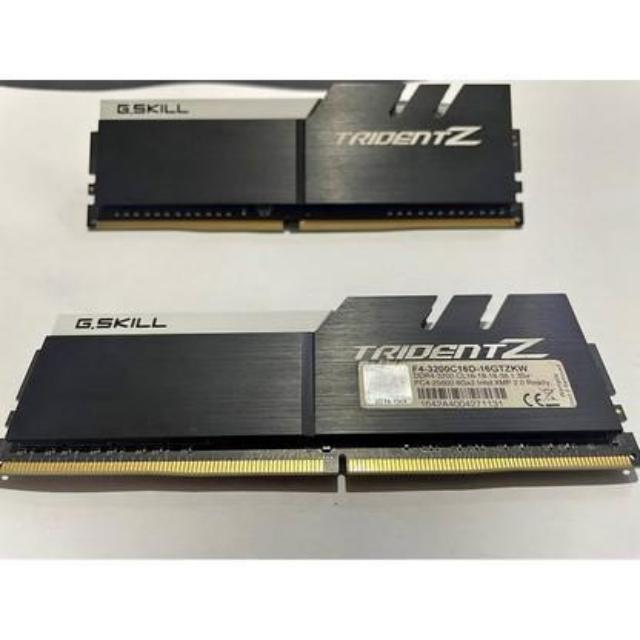RAM: (0, 282, 640, 498), (77, 78, 532, 240)
